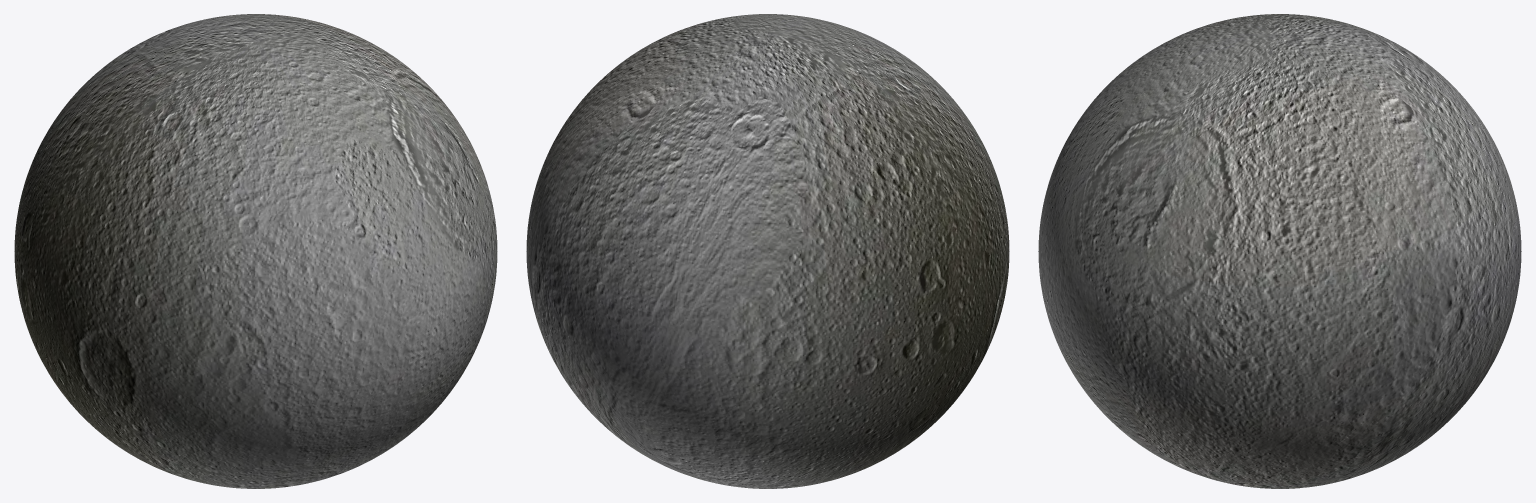
The model's file is tethys.glb.
3 renders of one model, left to right at view 1: azimuth 30°, elevation 25°; view 2: azimuth 150°, elevation 25°; view 3: azimuth 270°, elevation 25°, orthographic.
Visible parts, largest first — view 1: cylindrically_mapped_sphere; view 2: cylindrically_mapped_sphere; view 3: cylindrically_mapped_sphere.
Boxes of the visible parts, box(x1,y1,x2,y2) form: cylindrically_mapped_sphere: box(14, 14, 497, 488); cylindrically_mapped_sphere: box(526, 14, 1009, 488); cylindrically_mapped_sphere: box(1038, 14, 1521, 488).
Bounding box in the file's own units: 1000 × 980 × 1000.
Materials: 1 (1 with a texture image).
